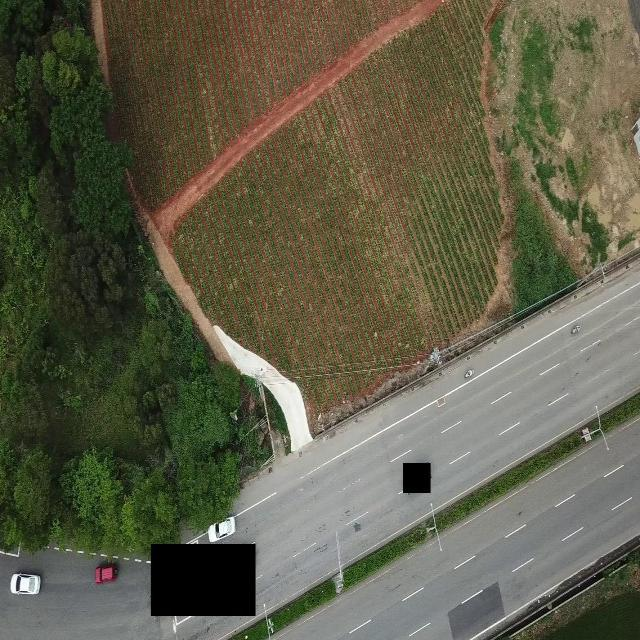bike: (570, 322, 582, 335), (464, 368, 477, 380)
car: (11, 570, 41, 596), (208, 516, 236, 542), (95, 554, 119, 582)
